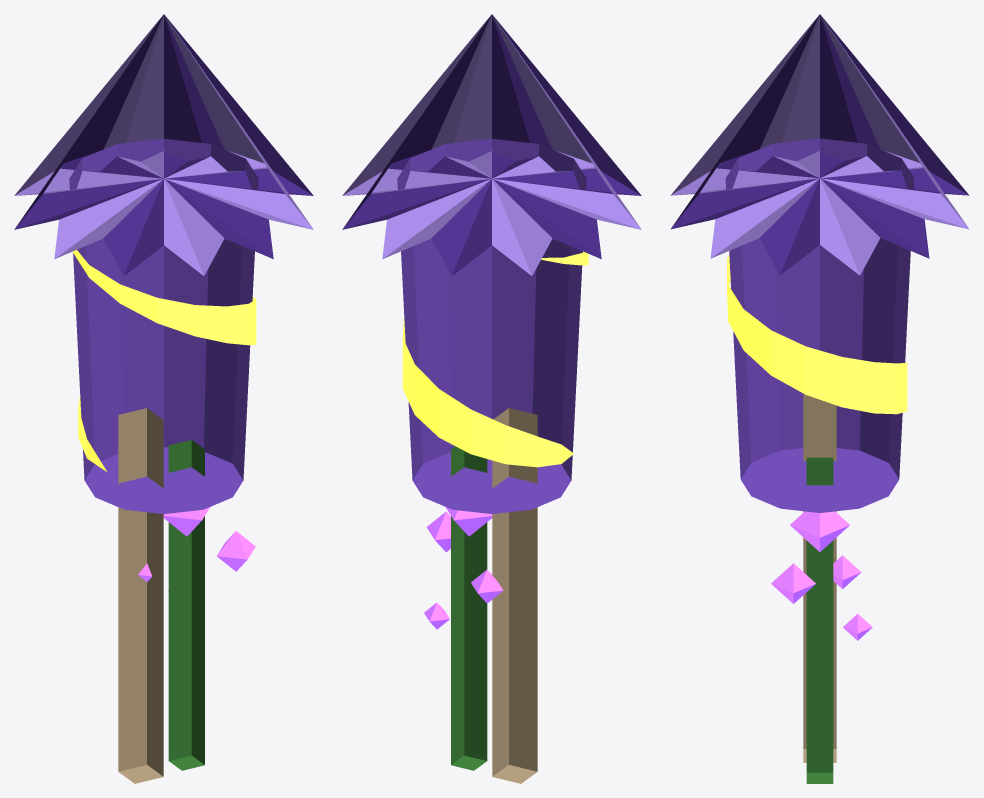
The model's file is rocket_violet_flying.glb.
The picture shows the model from 3 angles, left to right: view 1: azimuth 30°, elevation 25°; view 2: azimuth 150°, elevation 25°; view 3: azimuth 270°, elevation 25°; orthographic projection.
Visible parts, largest first — view 1: body, fan_a, fan_b, stick, fuse, emblem, sparks; view 2: body, fan_a, fan_b, stick, fuse, emblem, sparks; view 3: body, fan_a, fan_b, emblem, fuse, stick, sparks.
Boxes of the visible parts, bbox=[...] form: body: bbox=[69, 138, 258, 513]; fan_a: bbox=[14, 14, 313, 275]; fan_b: bbox=[14, 14, 313, 275]; stick: bbox=[118, 408, 163, 783]; fuse: bbox=[168, 440, 204, 770]; emblem: bbox=[72, 250, 256, 471]; sparks: bbox=[138, 507, 255, 591]; body: bbox=[397, 138, 586, 513]; fan_a: bbox=[342, 14, 641, 275]; fan_b: bbox=[342, 14, 641, 275]; stick: bbox=[492, 408, 537, 783]; fuse: bbox=[451, 446, 487, 770]; emblem: bbox=[402, 251, 588, 467]; sparks: bbox=[424, 507, 503, 629]; body: bbox=[725, 138, 914, 512]; fan_a: bbox=[671, 14, 969, 275]; fan_b: bbox=[670, 14, 968, 275]; emblem: bbox=[727, 255, 907, 414]; fuse: bbox=[806, 457, 833, 783]; stick: bbox=[803, 393, 836, 762]; sparks: bbox=[771, 511, 872, 640].
Bounding box in the file's own units: 0.396 × 1.1 × 0.396.
